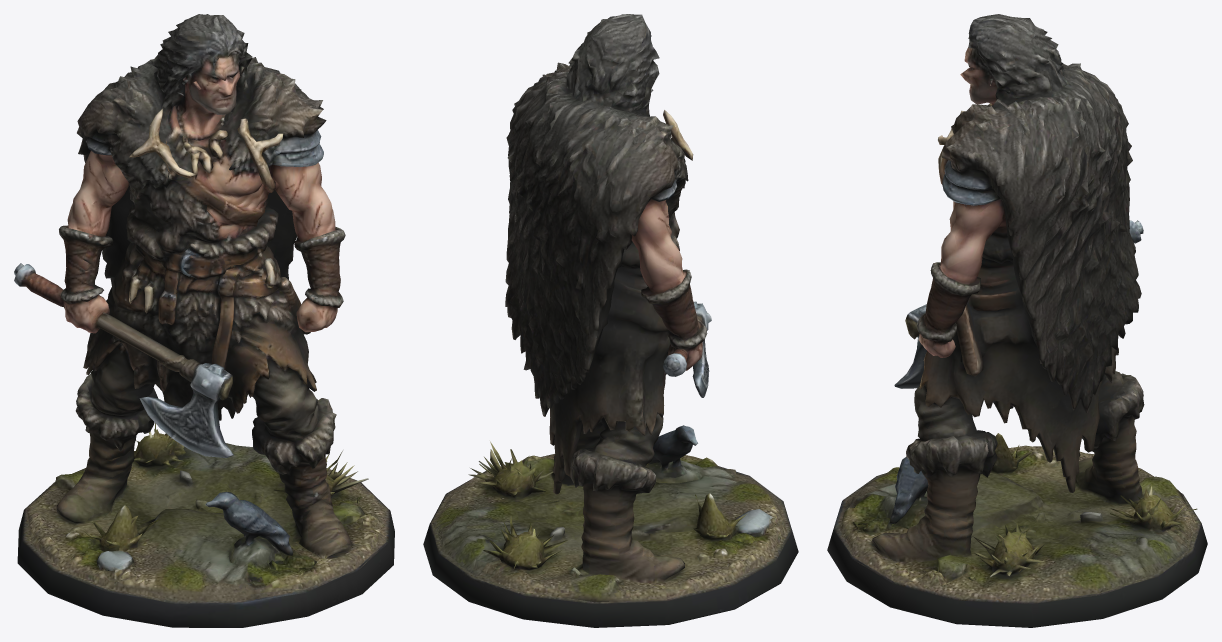
Rendered from barbarian_def_male.glb.
The picture shows the model from 3 angles, left to right: view 1: azimuth 30°, elevation 25°; view 2: azimuth 150°, elevation 25°; view 3: azimuth 270°, elevation 25°; orthographic projection.
Parts seen in each view (by area): view 1: tripo_node_79cee44d-d50a-48d1-ae4b-149a0dbf8b05; view 2: tripo_node_79cee44d-d50a-48d1-ae4b-149a0dbf8b05; view 3: tripo_node_79cee44d-d50a-48d1-ae4b-149a0dbf8b05.
Boxes of the visible parts, x1,y1,x2,y2 form: tripo_node_79cee44d-d50a-48d1-ae4b-149a0dbf8b05: [14, 14, 394, 627]; tripo_node_79cee44d-d50a-48d1-ae4b-149a0dbf8b05: [423, 14, 798, 627]; tripo_node_79cee44d-d50a-48d1-ae4b-149a0dbf8b05: [827, 14, 1207, 627].
Bounding box in the file's own units: 0.649 × 1 × 0.6525.
1 material, 1 textured.
